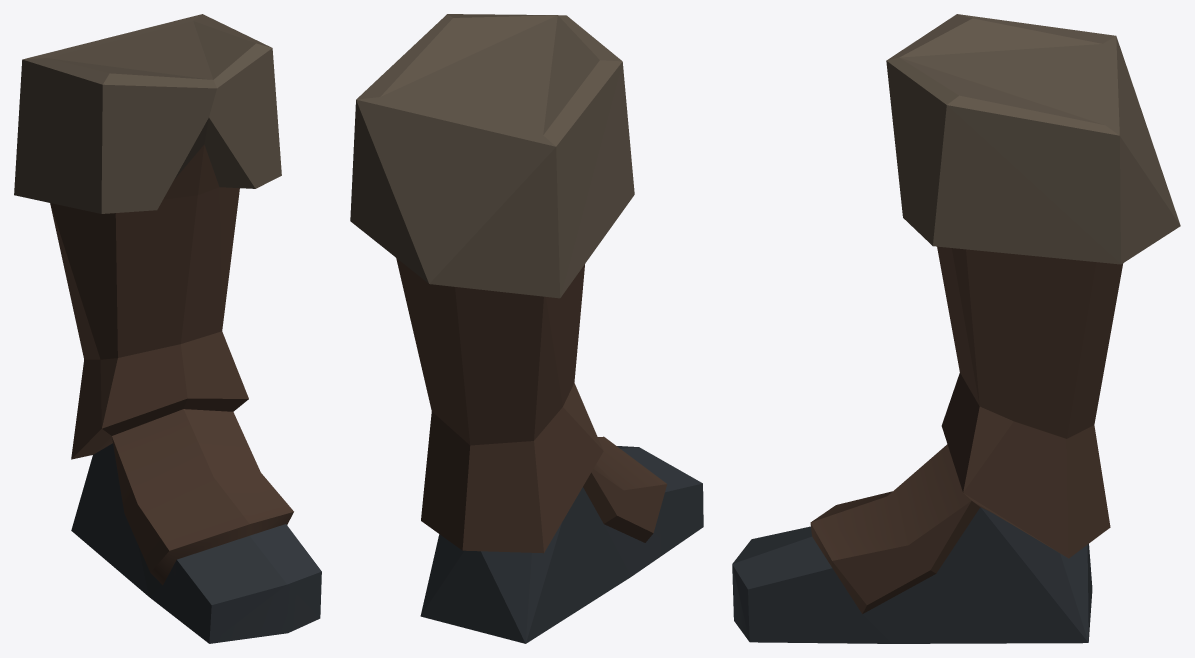
File: Chr_LegLeft_Male_19_Static.fbx
The picture shows the model from 3 angles, left to right: view 1: azimuth 30°, elevation 25°; view 2: azimuth 150°, elevation 25°; view 3: azimuth 270°, elevation 25°; orthographic projection. The views are drawn at different scales.
Visible parts, largest first — view 1: Chr_LegLeft_Male_19_Static; view 2: Chr_LegLeft_Male_19_Static; view 3: Chr_LegLeft_Male_19_Static.
Part boxes in pixels (box(x1,y1,x2,y2)): Chr_LegLeft_Male_19_Static: box(14, 14, 321, 643); Chr_LegLeft_Male_19_Static: box(350, 14, 703, 643); Chr_LegLeft_Male_19_Static: box(732, 14, 1180, 643).
Size of the model in its own units: 0.163 by 0.4045 by 0.2923.
